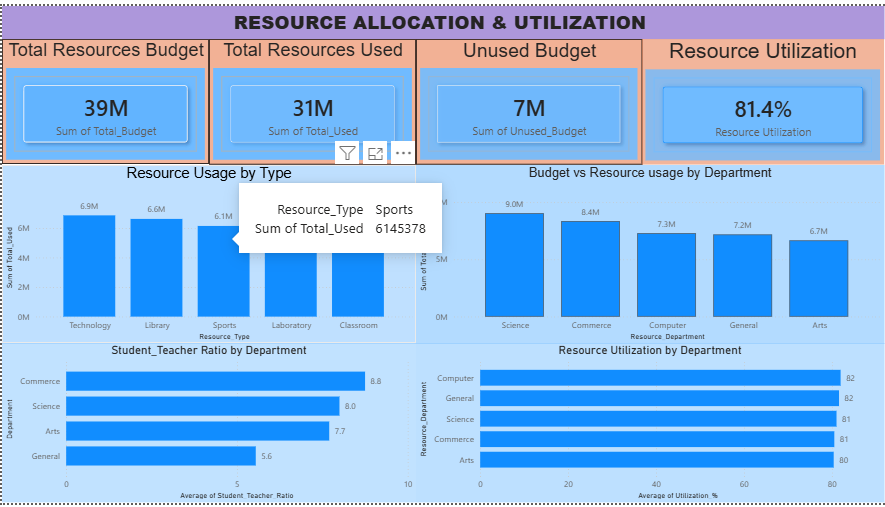

This screenshot's page, from the dashboard's own definition file:
{"tool":"powerbi","page":{"name":"Resource Allocation","canvas":[1280,720],"ordinal":2},"visuals":[{"type":"textbox","box":[0,0,1278.6,48.2],"z":0},{"type":"cardVisual","title":"Total Resources Budget","fields":{"Data":["Sum(Resource_Allocation.Total_Budget)"]},"box":[0,48.2,300,181],"z":1000},{"type":"cardVisual","title":"Total Resources Used ","fields":{"Data":["Sum(Resource_Allocation.Total_Used)"]},"box":[300,48.2,300,181.7],"z":1001},{"type":"cardVisual","title":"Unused Budget","fields":{"Data":["Sum(Resource_Allocation.Unused_Budget)"]},"box":[600.1,48.2,327.6,181.7],"z":1002},{"type":"cardVisual","title":"Resource Utilization","fields":{"Data":["Resource_Allocation.Resource Utilization"]},"box":[927,48.2,351,181.7],"z":1003},{"type":"clusteredColumnChart","title":"Resource Usage by Type","fields":{"Category":["Resource_Allocation.Resource_Type"],"Y":["Sum(Resource_Allocation.Total_Used)"]},"box":[0,229.8,600.1,258.8],"z":1004},{"type":"clusteredColumnChart","title":"Budget vs Resource usage by Department","fields":{"Y":["Sum(Resource_Allocation.Total_Budget)"],"Category":["Resource_Allocation.Resource_Department"]},"box":[600.1,229.8,678.5,258.8],"z":1005},{"type":"clusteredBarChart","title":"Student_Teacher Ratio by Department","fields":{"Category":["Teacher_Overview.Department"],"Y":["Avg(Teacher_Overview.Student_Teacher_Ratio)"]},"box":[0,488.6,600.1,231.2],"z":1006},{"type":"clusteredBarChart","title":"Resource Utilization by Department","fields":{"Category":["Resource_Allocation.Resource_Department"],"Y":["Avg(Resource_Allocation.Utilization_%)"]},"box":[600.1,488.6,678.5,231.2],"z":1007}]}

Visuals, with their boxes in screenshot pixels (x1, y1, x2, y2), scaled from the page's 1280x720 canvas onto the 885x507 screenshot:
textbox: {"x1": 0, "y1": 0, "x2": 884, "y2": 34}
"Total Resources Budget" cardVisual: {"x1": 0, "y1": 34, "x2": 207, "y2": 161}
"Total Resources Used " cardVisual: {"x1": 207, "y1": 34, "x2": 415, "y2": 162}
"Unused Budget" cardVisual: {"x1": 415, "y1": 34, "x2": 641, "y2": 162}
"Resource Utilization" cardVisual: {"x1": 641, "y1": 34, "x2": 884, "y2": 162}
"Resource Usage by Type" clusteredColumnChart: {"x1": 0, "y1": 162, "x2": 415, "y2": 344}
"Budget vs Resource usage by Department" clusteredColumnChart: {"x1": 415, "y1": 162, "x2": 884, "y2": 344}
"Student_Teacher Ratio by Department" clusteredBarChart: {"x1": 0, "y1": 344, "x2": 415, "y2": 506}
"Resource Utilization by Department" clusteredBarChart: {"x1": 415, "y1": 344, "x2": 884, "y2": 506}
